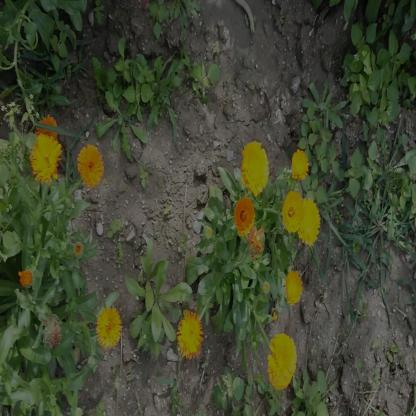marigold: (267, 332, 297, 390), (30, 134, 59, 182), (76, 143, 105, 190), (242, 140, 268, 192), (295, 199, 319, 245), (177, 312, 202, 356), (96, 306, 120, 347), (35, 113, 58, 149), (235, 198, 256, 235), (283, 193, 303, 231), (284, 268, 302, 306), (291, 148, 309, 180)
